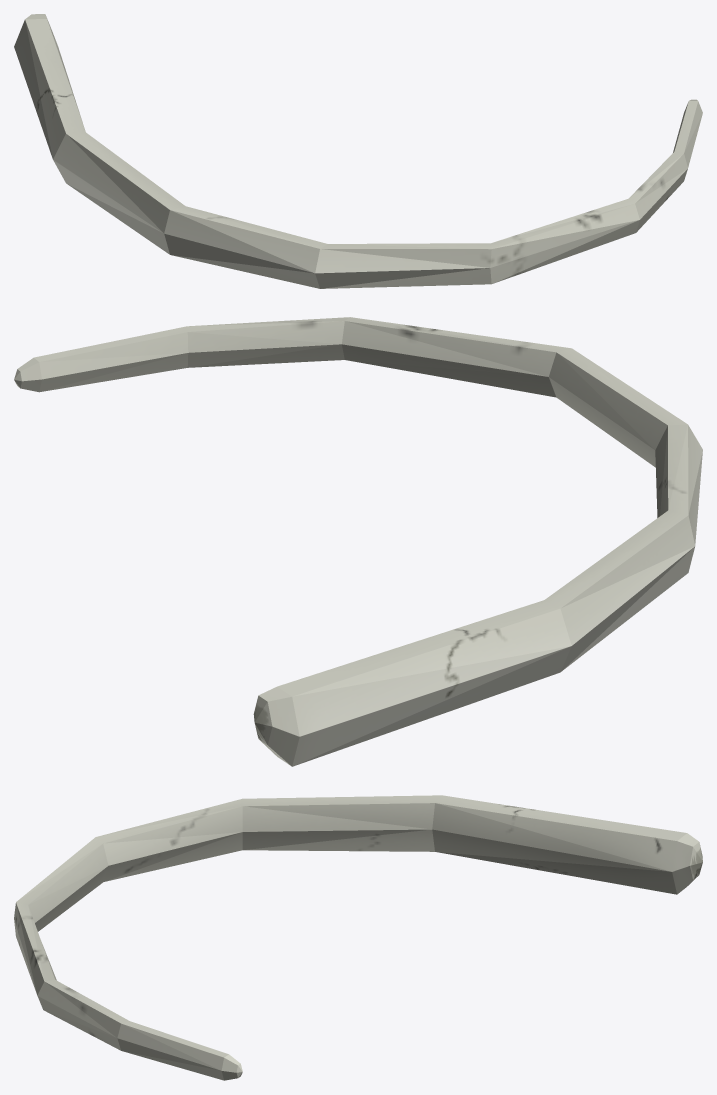
The model's file is BoneV3_20220505.obj.
3 renders of one model, top to bottom at view 1: azimuth 30°, elevation 25°; view 2: azimuth 150°, elevation 25°; view 3: azimuth 270°, elevation 25°, orthographic. The views are drawn at different scales.
Parts seen in each view (by area): view 1: rib; view 2: rib; view 3: rib.
Part boxes in pixels (left/top/right/bottom): rib: left=14, top=14, right=702, bottom=288; rib: left=14, top=317, right=702, bottom=766; rib: left=14, top=795, right=702, bottom=1080.
Size of the model in its own units: 1.41 by 0.1368 by 1.59.
